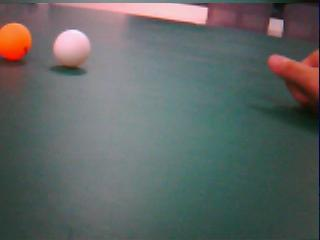oball: (0, 22, 31, 61)
